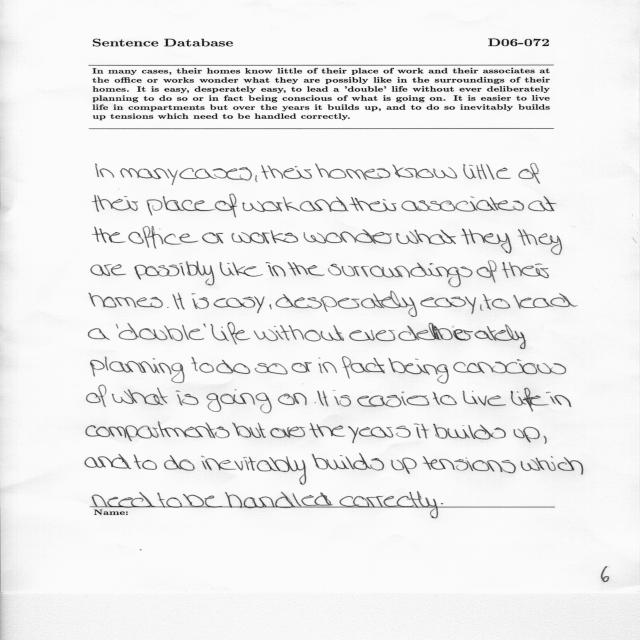word: (93, 491, 439, 507), (93, 491, 439, 507), (93, 491, 439, 507), (275, 291, 417, 317), (328, 263, 473, 288), (399, 323, 527, 349), (396, 229, 512, 254), (86, 422, 230, 442), (120, 167, 258, 185), (91, 357, 184, 383), (234, 456, 306, 485), (402, 196, 524, 212), (135, 261, 215, 285), (453, 359, 566, 374), (129, 226, 199, 249), (388, 358, 449, 384), (206, 390, 272, 414), (423, 456, 516, 473), (253, 325, 344, 342), (119, 323, 204, 341), (304, 229, 392, 244), (147, 196, 216, 215), (312, 453, 384, 471), (521, 456, 583, 475), (433, 424, 506, 440), (357, 392, 429, 408), (518, 229, 562, 255), (89, 293, 163, 308), (348, 426, 411, 443), (513, 293, 578, 309), (420, 296, 476, 314), (393, 164, 458, 179), (112, 388, 168, 405), (342, 357, 385, 379), (232, 230, 298, 244), (211, 322, 251, 345), (511, 388, 549, 412), (242, 197, 300, 212), (214, 297, 265, 314), (93, 195, 138, 212), (502, 262, 549, 278), (300, 197, 349, 212), (463, 164, 511, 179), (261, 165, 312, 179), (350, 197, 396, 212), (85, 454, 131, 469), (220, 262, 263, 277), (463, 391, 506, 406), (92, 227, 126, 243), (232, 422, 266, 438), (346, 168, 390, 180), (310, 423, 345, 438), (288, 262, 325, 276), (215, 194, 237, 217), (350, 330, 396, 341), (315, 163, 346, 179), (164, 455, 195, 471), (201, 456, 236, 470), (217, 360, 251, 374), (518, 163, 540, 184), (483, 294, 511, 310), (391, 457, 417, 474), (477, 261, 497, 283), (87, 385, 107, 407), (528, 196, 557, 211), (91, 264, 126, 276), (270, 426, 305, 438), (513, 427, 540, 442), (133, 454, 157, 470), (546, 392, 571, 407), (191, 357, 214, 373), (255, 363, 288, 374), (278, 393, 307, 405), (176, 391, 198, 406), (433, 392, 457, 405), (318, 358, 337, 374), (191, 293, 209, 309), (333, 390, 351, 406), (266, 262, 286, 276), (88, 328, 110, 340), (96, 164, 114, 178), (202, 233, 223, 244), (414, 424, 429, 439), (172, 293, 185, 310), (292, 362, 312, 373), (317, 391, 329, 406), (543, 436, 547, 444), (480, 305, 483, 311), (116, 324, 119, 329), (270, 304, 272, 310), (203, 324, 206, 328), (295, 166, 298, 167), (167, 307, 169, 308), (314, 403, 316, 404), (441, 503, 443, 504)
